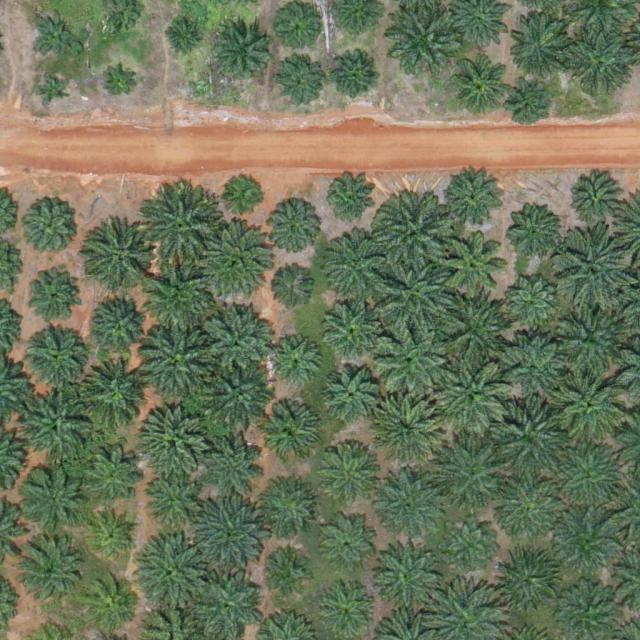Healthy: (558, 232, 636, 311), (438, 357, 516, 436), (374, 195, 452, 274), (143, 192, 221, 271), (377, 254, 455, 332), (439, 440, 510, 511), (377, 324, 448, 395), (370, 396, 441, 467), (205, 226, 276, 297), (387, 2, 458, 73), (557, 372, 627, 443), (553, 306, 623, 377), (492, 474, 562, 545), (373, 542, 443, 613), (324, 229, 394, 300), (194, 498, 265, 568), (206, 360, 276, 431), (202, 306, 272, 377), (145, 265, 215, 336), (139, 329, 210, 399), (137, 404, 208, 474), (142, 540, 212, 611), (74, 441, 144, 512), (78, 360, 148, 431), (22, 394, 92, 465), (19, 463, 89, 534), (17, 535, 87, 606), (566, 32, 637, 102), (555, 445, 625, 515), (493, 402, 563, 472), (441, 295, 511, 365), (372, 473, 442, 543), (204, 428, 267, 491), (19, 195, 82, 258), (557, 514, 619, 577), (503, 336, 565, 399), (445, 238, 507, 301), (444, 169, 506, 232), (92, 293, 154, 356), (27, 326, 90, 388), (510, 14, 572, 77), (210, 22, 272, 85), (260, 404, 322, 466), (89, 229, 151, 291), (266, 202, 321, 258), (503, 554, 558, 609), (321, 585, 376, 640), (324, 366, 379, 421), (323, 301, 378, 356), (267, 335, 322, 390), (141, 475, 196, 530), (81, 579, 136, 634), (24, 268, 79, 323), (450, 58, 505, 113), (325, 445, 379, 500), (263, 479, 317, 534), (573, 179, 620, 227), (511, 209, 558, 257), (510, 282, 557, 330), (327, 523, 374, 571), (333, 55, 380, 103), (448, 517, 495, 564), (277, 58, 324, 105)
Small: (86, 509, 141, 564), (323, 174, 378, 229), (267, 268, 314, 315), (32, 12, 79, 59), (268, 553, 308, 593), (275, 10, 315, 49), (165, 21, 205, 60), (226, 175, 265, 215), (509, 83, 549, 122), (104, 69, 135, 101), (37, 75, 68, 107)
